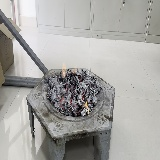fire: (84, 99, 89, 115), (62, 62, 66, 77)
